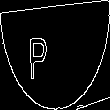P_N: (44, 29, 66, 81)
